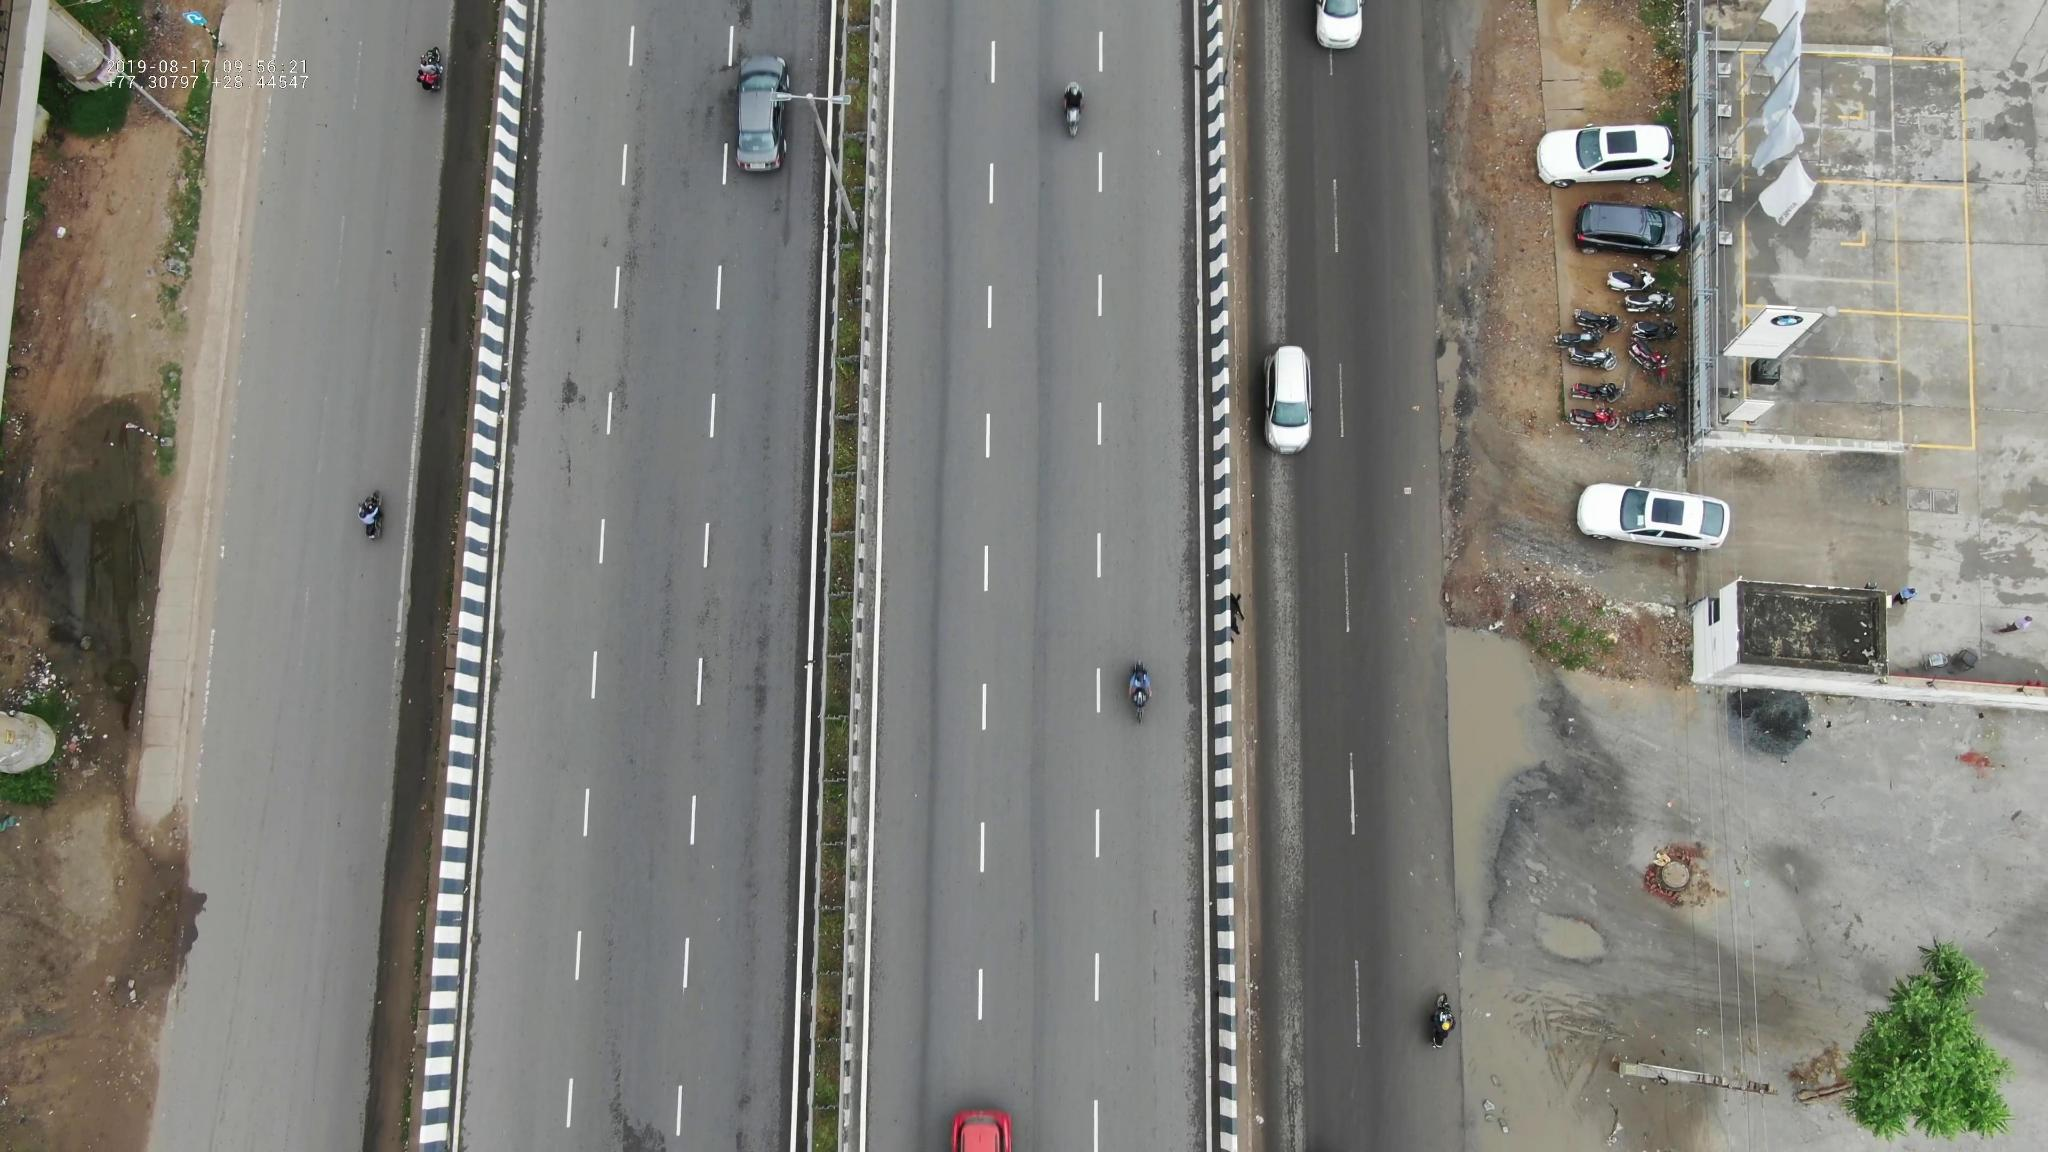Ravelling: (693, 527, 793, 753), (617, 84, 657, 345)
